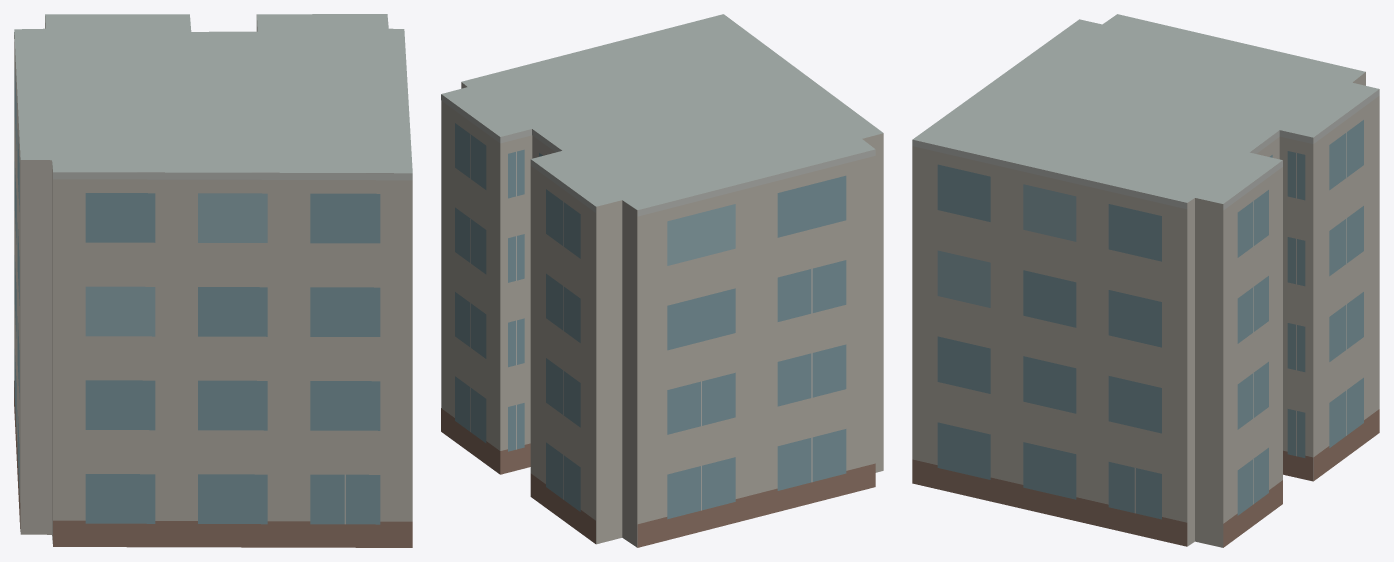
File: survey-upis-32657227.glb
3 views of the same model, side by side, from view 1: azimuth 30°, elevation 25°; view 2: azimuth 150°, elevation 25°; view 3: azimuth 270°, elevation 25° (orthographic). The views are drawn at different scales.
Parts seen in each view (by area): view 1: survey-upis-32657227.tmp; view 2: survey-upis-32657227.tmp; view 3: survey-upis-32657227.tmp.
Part boxes in pixels (x1,y1,x2,y2): survey-upis-32657227.tmp: (14, 14, 412, 547); survey-upis-32657227.tmp: (441, 14, 883, 547); survey-upis-32657227.tmp: (912, 14, 1379, 547).
Bounding box in the file's own units: 15.3 × 12.9 × 15.9.
